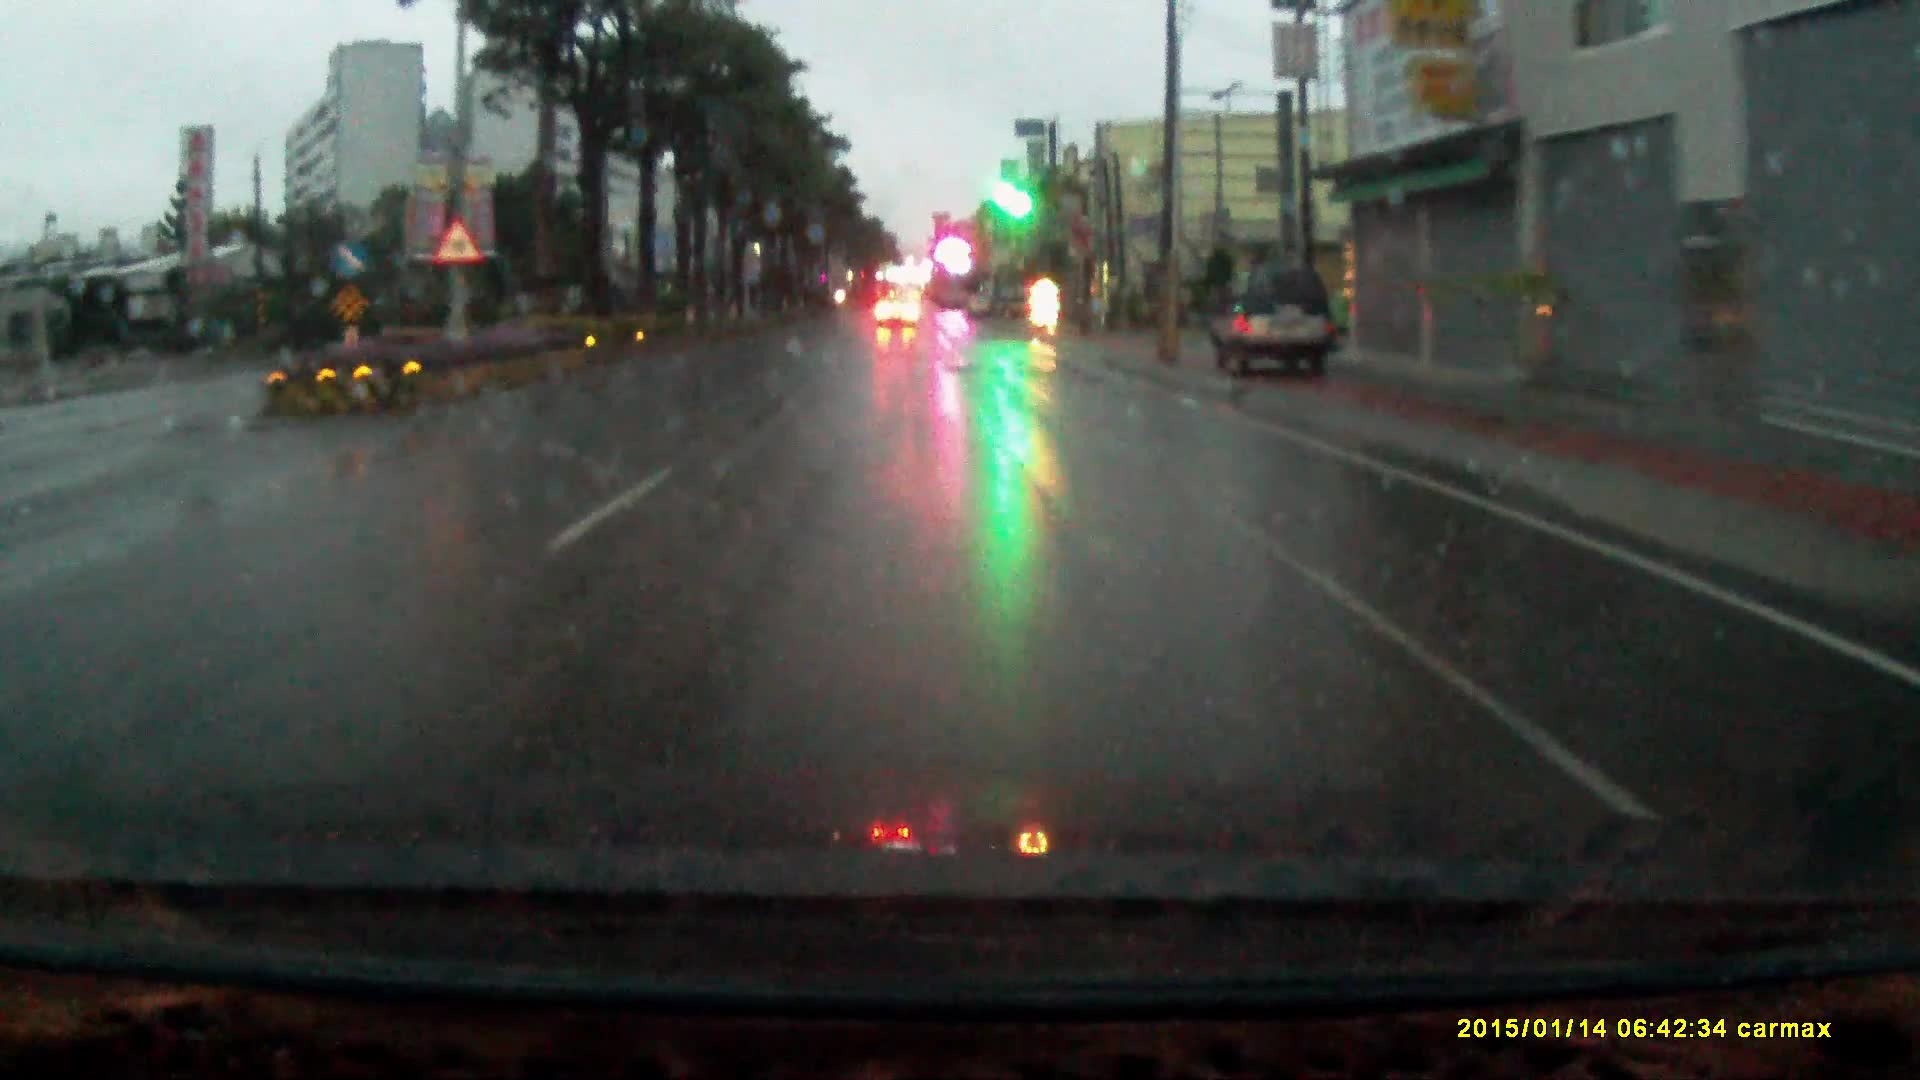vehicle: (1207, 258, 1341, 377), (872, 285, 919, 320)
